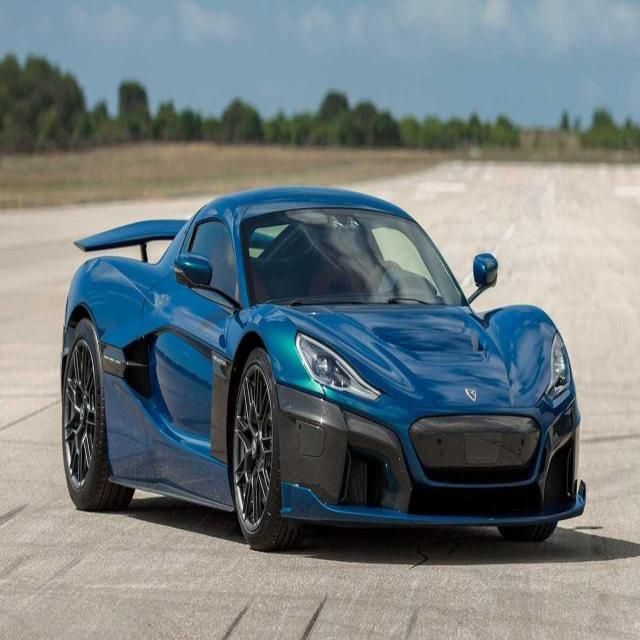cars25: (59, 183, 588, 551)
